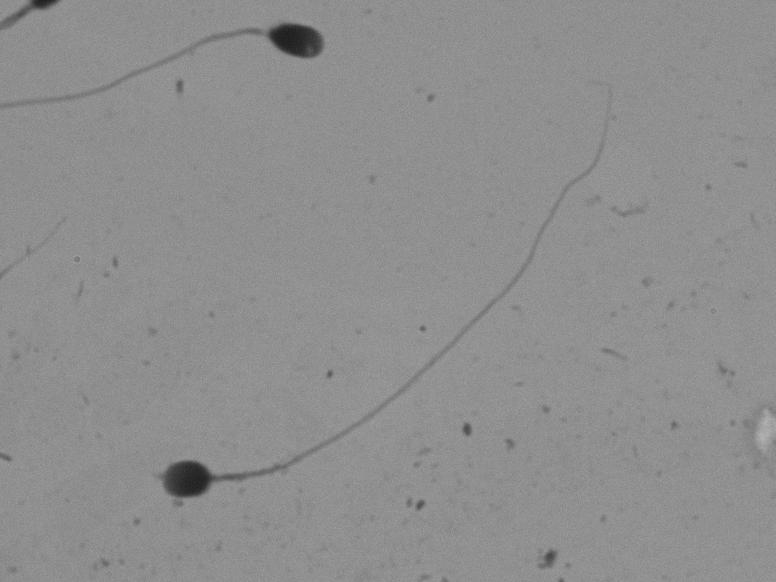Normal: (135, 101, 702, 525), (10, 12, 374, 117)
